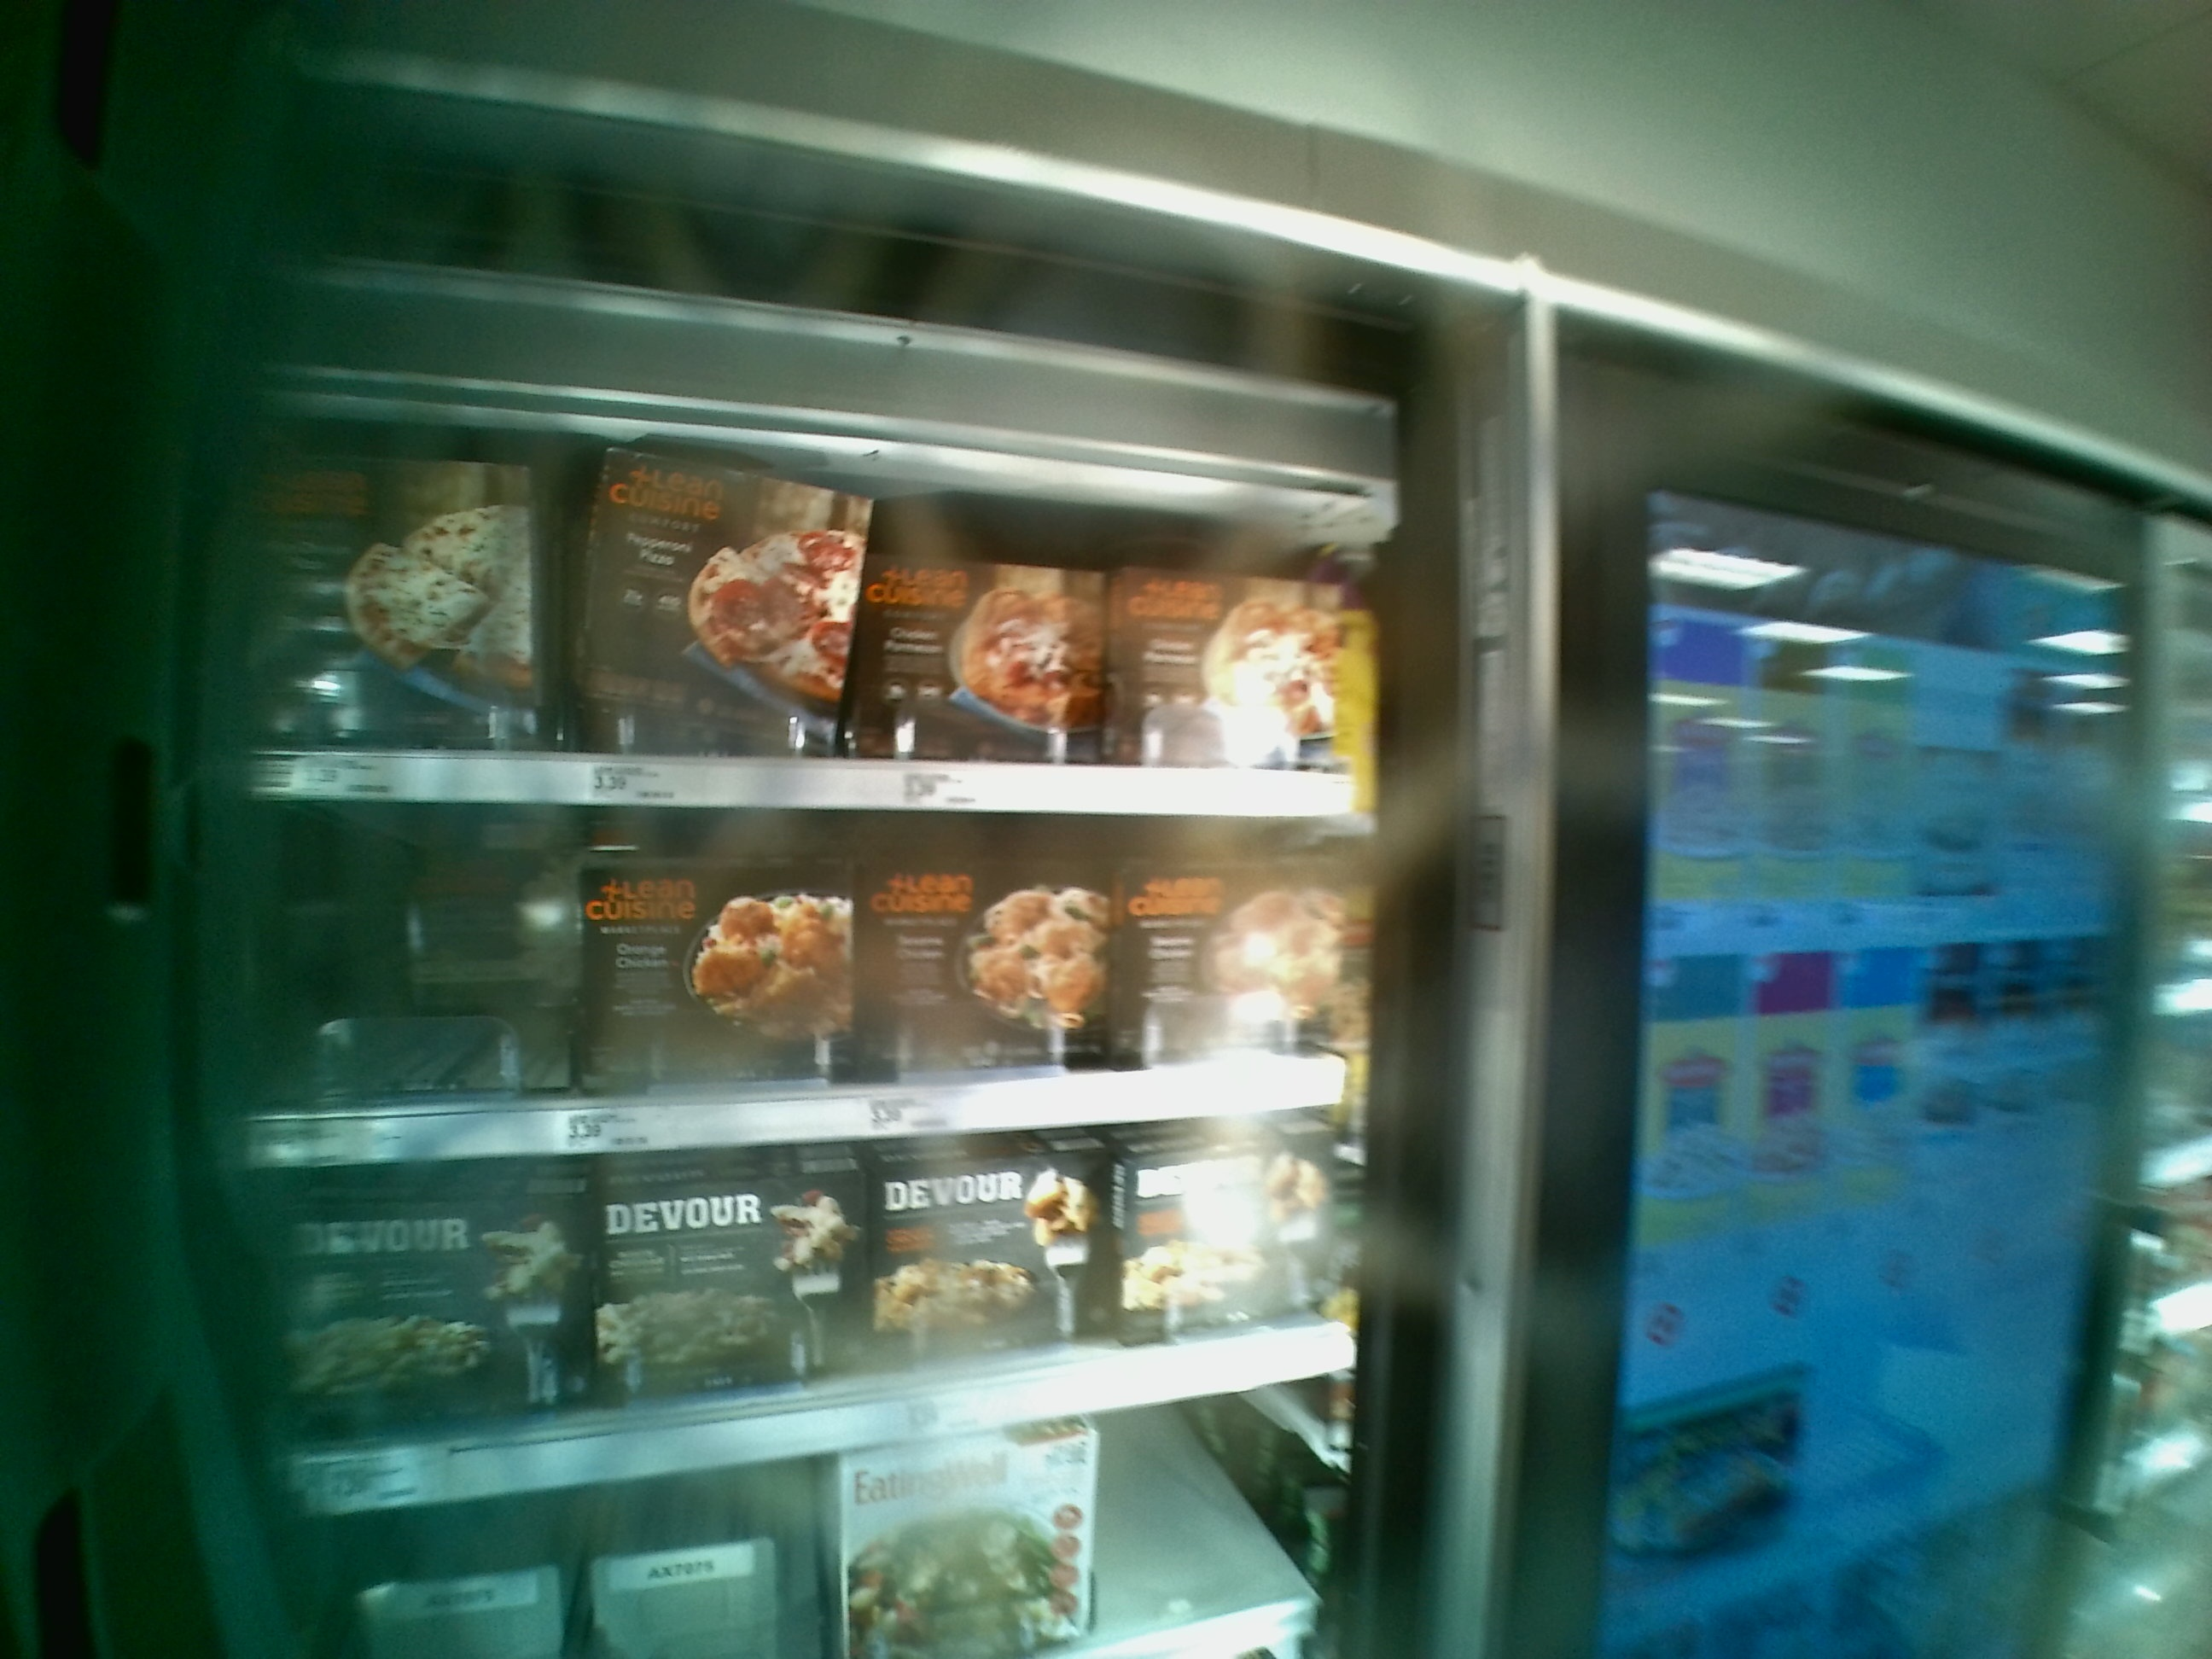shelf: (235, 415, 1360, 828), (235, 791, 1372, 1175)
